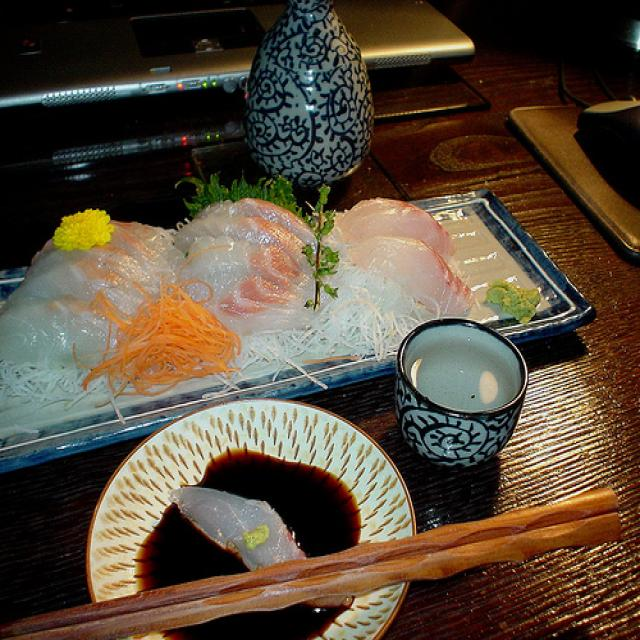刺身生食: (0, 142, 521, 444)
